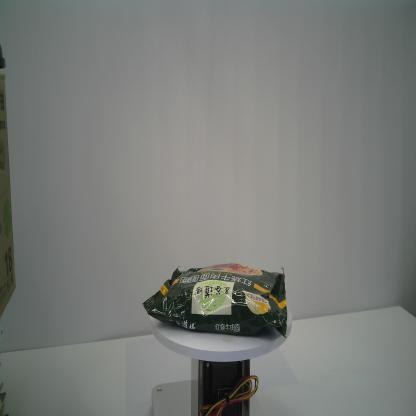Instant Noodles: (141, 259, 289, 342)
